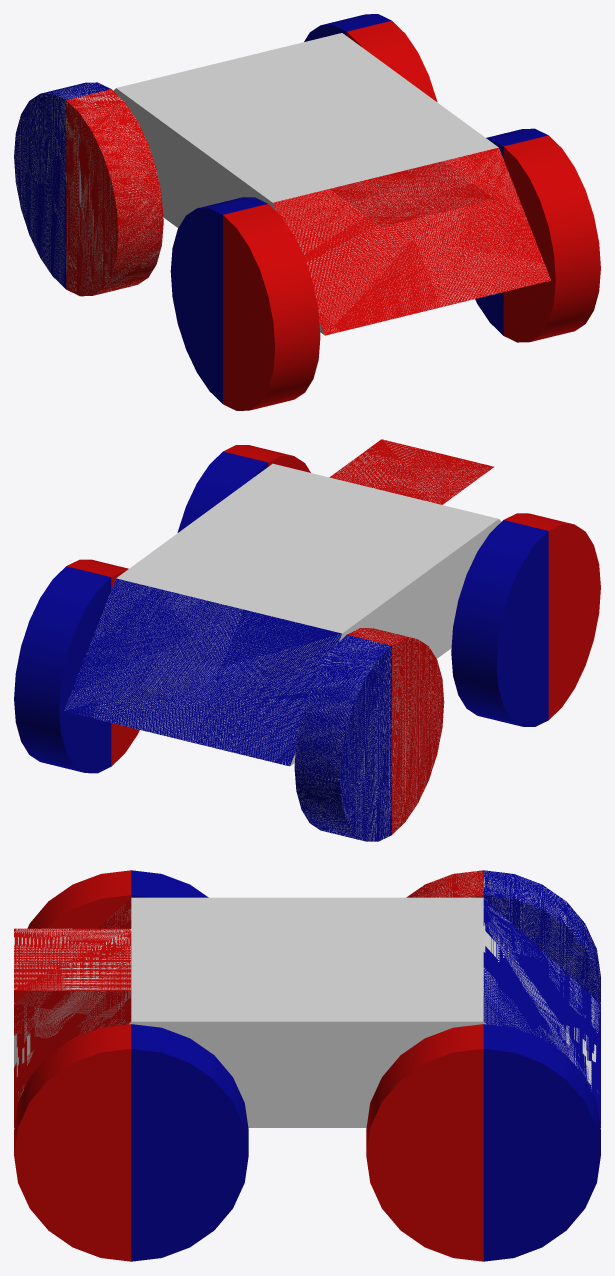
Rendered from Husky Demo.dae.
The picture shows the model from 3 angles, top to bottom: view 1: azimuth 30°, elevation 25°; view 2: azimuth 150°, elevation 25°; view 3: azimuth 270°, elevation 25°; orthographic projection. The views are drawn at different scales.
Parts seen in each view (by area): view 1: Frame (×3), Wheel (×8); view 2: Frame (×3), Wheel (×8); view 3: Wheel (×8), Frame (×4).
Boxes of the visible parts, left/top/right/bottom form: Frame (×3): left=113, top=33, right=550, bottom=335; Wheel (×8): left=14, top=14, right=600, bottom=410; Frame (×3): left=64, top=439, right=501, bottom=766; Wheel (×8): left=14, top=445, right=600, bottom=841; Wheel (×8): left=14, top=870, right=600, bottom=1261; Frame (×4): left=14, top=897, right=600, bottom=1127.
Size of the model in its own units: 28.35 by 39.37 by 15.75.
